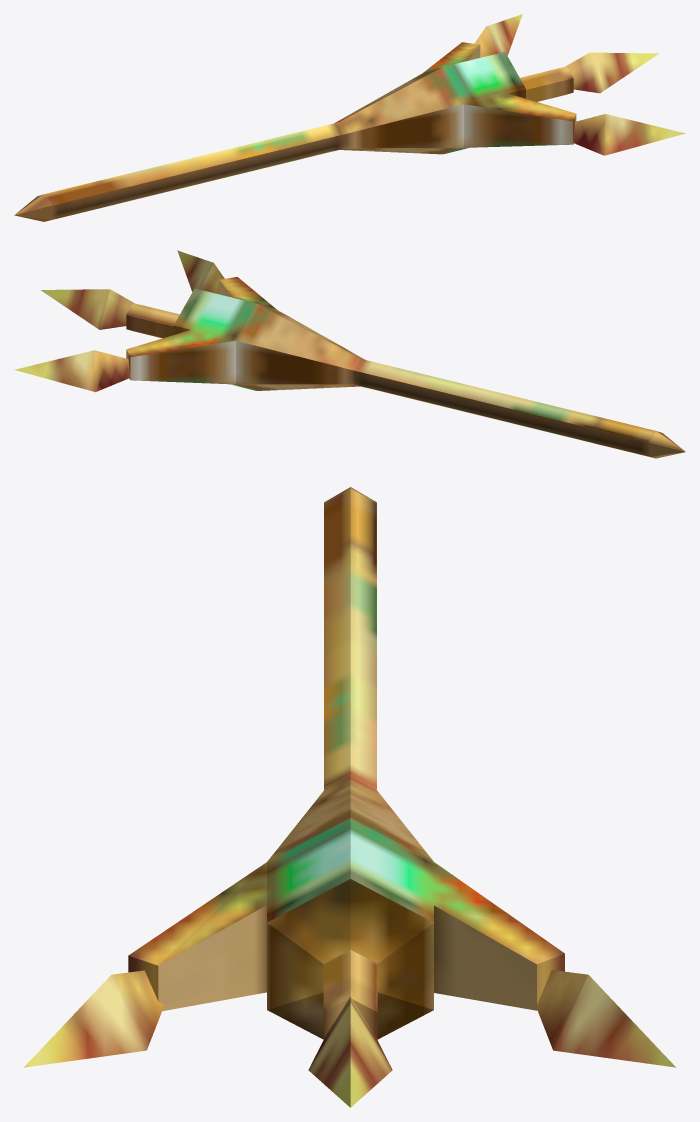
3 views of the same model, one above another, from view 1: azimuth 30°, elevation 25°; view 2: azimuth 150°, elevation 25°; view 3: azimuth 270°, elevation 25° (orthographic). The views are drawn at different scales.
Parts seen in each view (by area): view 1: aw102; view 2: aw102; view 3: aw102.
Part boxes in pixels (x1,y1,x2,y2): aw102: [14, 14, 685, 221]; aw102: [14, 250, 685, 458]; aw102: [24, 487, 675, 1107].
Bounding box in the file's own units: 14.17 × 1.84 × 6.21.
1 material, 1 textured.
